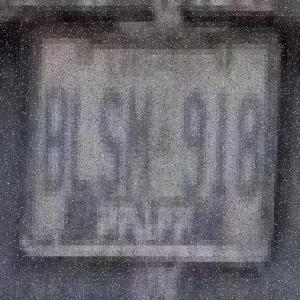Plate: (21, 25, 284, 280)
